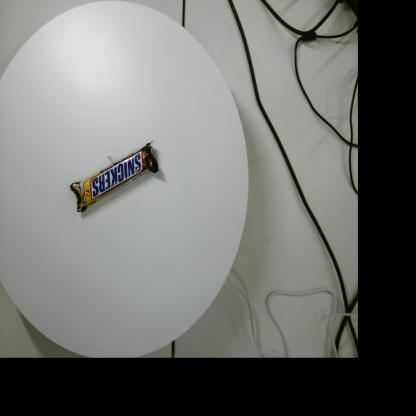Chocolate: (70, 140, 158, 212)
